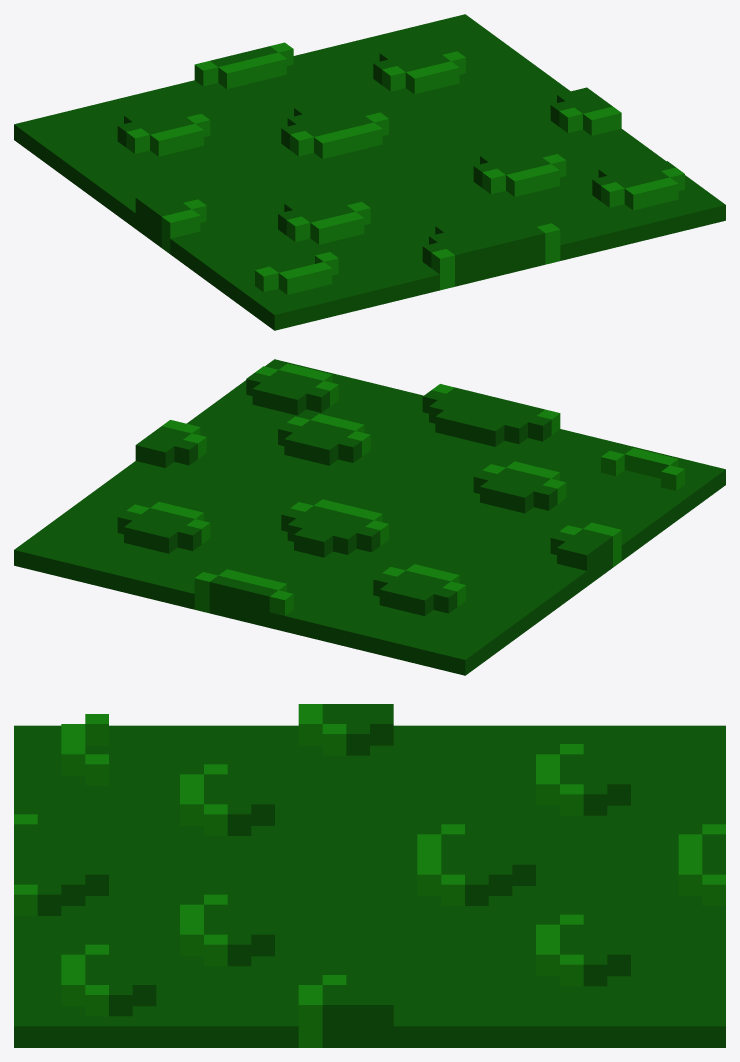
File: Ground.fbx
The picture shows the model from 3 angles, top to bottom: view 1: azimuth 30°, elevation 25°; view 2: azimuth 150°, elevation 25°; view 3: azimuth 270°, elevation 25°; orthographic projection. The views are drawn at different scales.
Visible parts, largest first — view 1: Box_6; view 2: Box_6; view 3: Box_6.
Part boxes in pixels (left/top/right/bottom): Box_6: left=14, top=14, right=725, bottom=330; Box_6: left=14, top=359, right=725, bottom=675; Box_6: left=14, top=704, right=725, bottom=1047.
Size of the model in its own units: 30 by 2 by 30.
